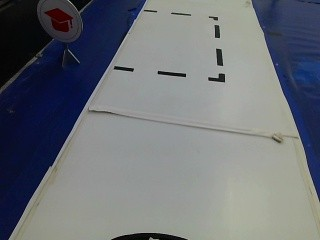school: (37, 1, 88, 72)
